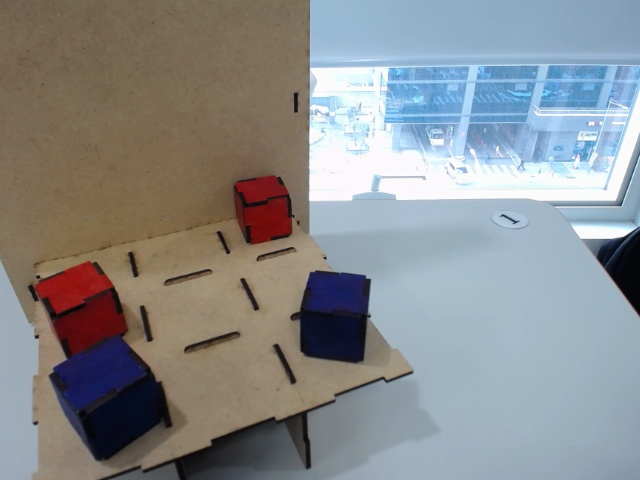blue: (48, 336, 162, 459), (300, 271, 370, 364)
red: (34, 263, 129, 357), (233, 174, 292, 243)
